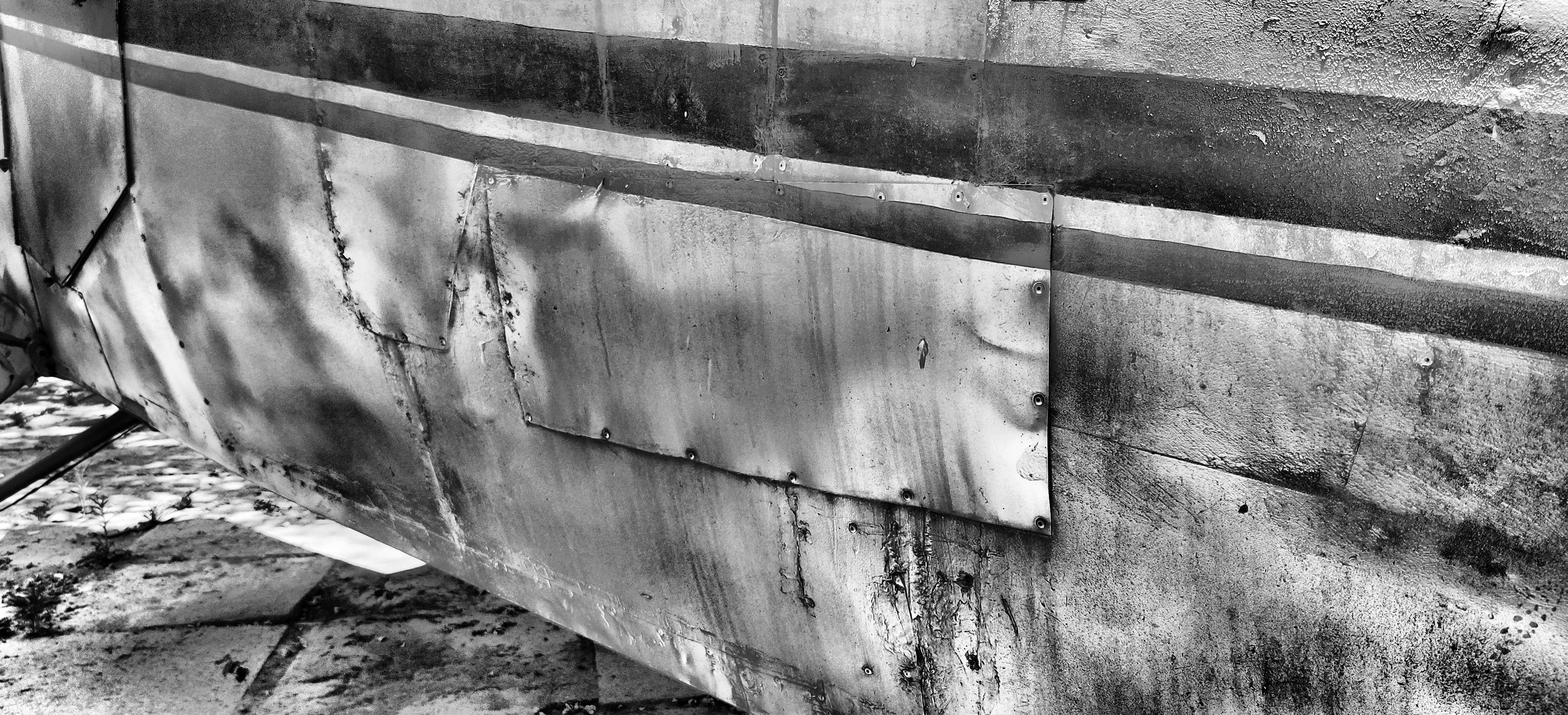dent: (107, 255, 197, 434), (1459, 28, 1535, 114), (212, 321, 267, 415), (988, 380, 1047, 434), (974, 327, 1047, 361)
missing-head: (963, 575, 975, 586)
paint-peel-off: (884, 507, 964, 636), (784, 483, 808, 596), (914, 644, 935, 678), (966, 651, 983, 673)
scratch: (1114, 482, 1178, 530), (1423, 100, 1485, 145), (1152, 481, 1199, 519), (1001, 595, 1020, 637)
